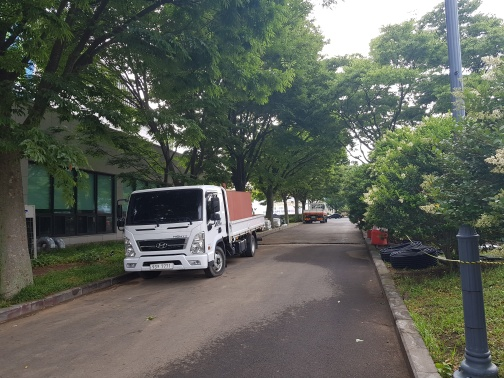Gym: (22, 98, 123, 240)
